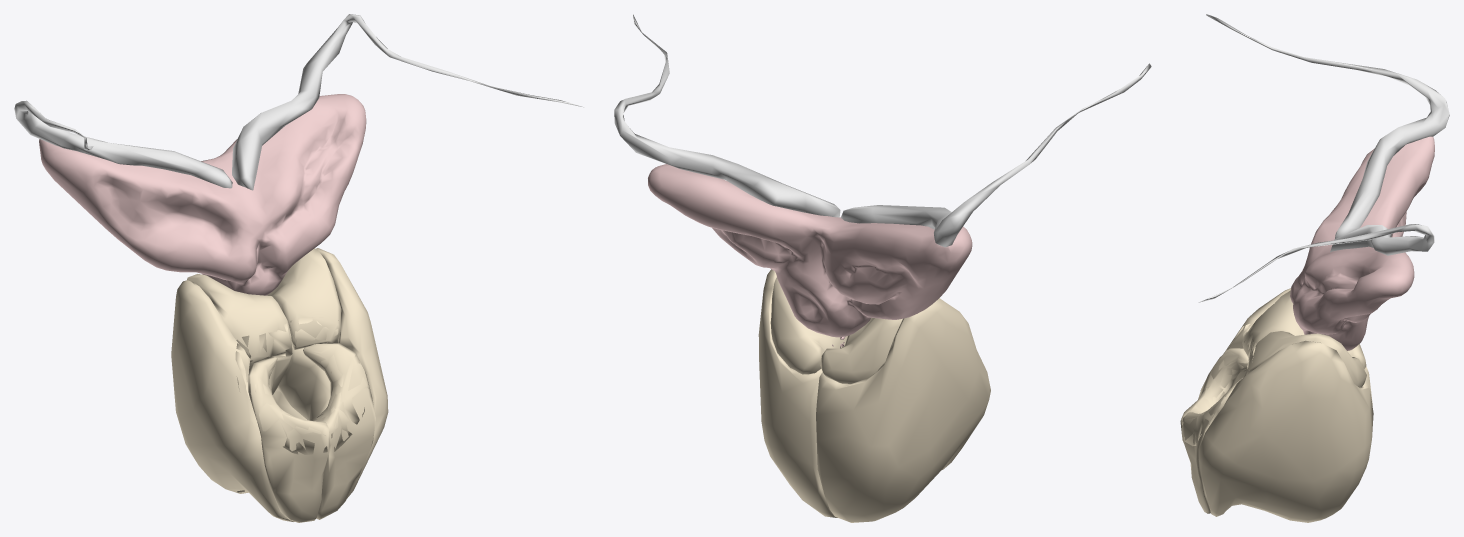
File: vh_m_prostate-20.fbx
3 views of the same model, side by side, from view 1: azimuth 30°, elevation 25°; view 2: azimuth 150°, elevation 25°; view 3: azimuth 270°, elevation 25° (orthographic). The views are drawn at different scales.
Parts seen in each view (by area): view 1: VH_M_seminal_vesicle, VH_M_peripheral_zone_of_prostate_R, VH_M_anterior_fibromuscular_stroma_R, VH_M_vas_deferens_R, VH_M_anterior_fibromuscular_stroma_L, VH_M_base_of_prostate, VH_M_vas_deferens_L, VH_M_central_zone_of_prostate_L, VH_M_peripheral_zone_of_prostate_L, VH_M_central_zone_of_prostate_R, VH_M_transition_zone__of_prostate_L; view 2: VH_M_peripheral_zone_of_prostate_R, VH_M_seminal_vesicle, VH_M_peripheral_zone_of_prostate_L, VH_M_vas_deferens_R, VH_M_vas_deferens_L, VH_M_central_zone_of_prostate_R, VH_M_central_zone_of_prostate_L; view 3: VH_M_peripheral_zone_of_prostate_L, VH_M_seminal_vesicle, VH_M_vas_deferens_L, VH_M_vas_deferens_R, VH_M_central_zone_of_prostate_L, VH_M_central_zone_of_prostate_R, VH_M_base_of_prostate, VH_M_anterior_fibromuscular_stroma_L, VH_M_anterior_fibromuscular_stroma_R, VH_M_peripheral_zone_of_prostate_R.
Part boxes in pixels (x1,y1,x2,y2): VH_M_seminal_vesicle: (39, 94, 366, 295); VH_M_peripheral_zone_of_prostate_R: (171, 280, 294, 521); VH_M_anterior_fibromuscular_stroma_R: (248, 357, 329, 522); VH_M_vas_deferens_R: (232, 14, 583, 190); VH_M_anterior_fibromuscular_stroma_L: (303, 343, 375, 519); VH_M_base_of_prostate: (235, 317, 369, 454); VH_M_vas_deferens_L: (14, 100, 232, 188); VH_M_central_zone_of_prostate_L: (267, 248, 341, 387); VH_M_peripheral_zone_of_prostate_L: (272, 248, 388, 498); VH_M_central_zone_of_prostate_R: (187, 274, 292, 362); VH_M_transition_zone__of_prostate_L: (277, 345, 330, 420); VH_M_peripheral_zone_of_prostate_R: (816, 298, 990, 522); VH_M_seminal_vesicle: (648, 164, 972, 337); VH_M_peripheral_zone_of_prostate_L: (758, 269, 837, 517); VH_M_vas_deferens_R: (614, 14, 840, 217); VH_M_vas_deferens_L: (841, 63, 1151, 247); VH_M_central_zone_of_prostate_R: (820, 317, 902, 383); VH_M_central_zone_of_prostate_L: (770, 277, 847, 374); VH_M_peripheral_zone_of_prostate_L: (1198, 340, 1373, 522); VH_M_seminal_vesicle: (1290, 136, 1434, 350); VH_M_vas_deferens_L: (1206, 14, 1449, 238); VH_M_vas_deferens_R: (1198, 224, 1434, 302); VH_M_central_zone_of_prostate_L: (1243, 331, 1366, 387); VH_M_central_zone_of_prostate_R: (1242, 290, 1366, 369); VH_M_base_of_prostate: (1181, 323, 1256, 446); VH_M_anterior_fibromuscular_stroma_L: (1181, 378, 1242, 513); VH_M_anterior_fibromuscular_stroma_R: (1180, 348, 1248, 442); VH_M_peripheral_zone_of_prostate_R: (1200, 288, 1372, 405).
Bounding box in the file's own units: 8.27 × 7.05 × 4.28.
